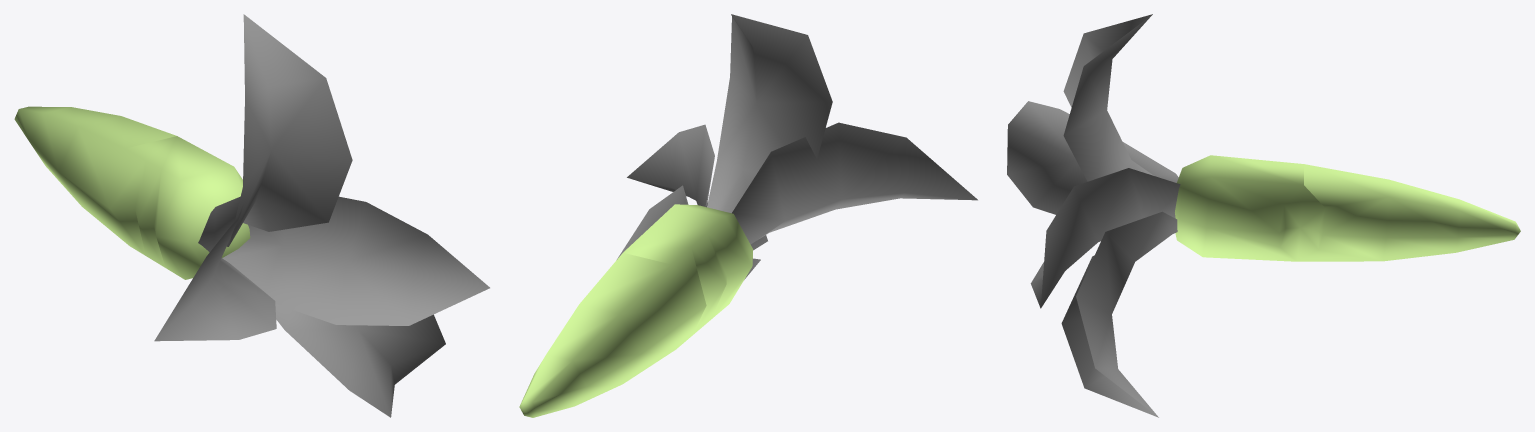
File: Carrot.FBX
3 views of the same model, side by side, from view 1: azimuth 30°, elevation 25°; view 2: azimuth 150°, elevation 25°; view 3: azimuth 270°, elevation 25° (orthographic). The views are drawn at different scales.
Visible parts, largest first — view 1: Box001; view 2: Box001; view 3: Box001.
Part boxes in pixels (left/top/right/bottom): Box001: left=14, top=14, right=489, bottom=417; Box001: left=519, top=14, right=977, bottom=417; Box001: left=1007, top=14, right=1520, bottom=417.
Bounding box in the file's own units: 1.63 × 1.8 × 2.46.
